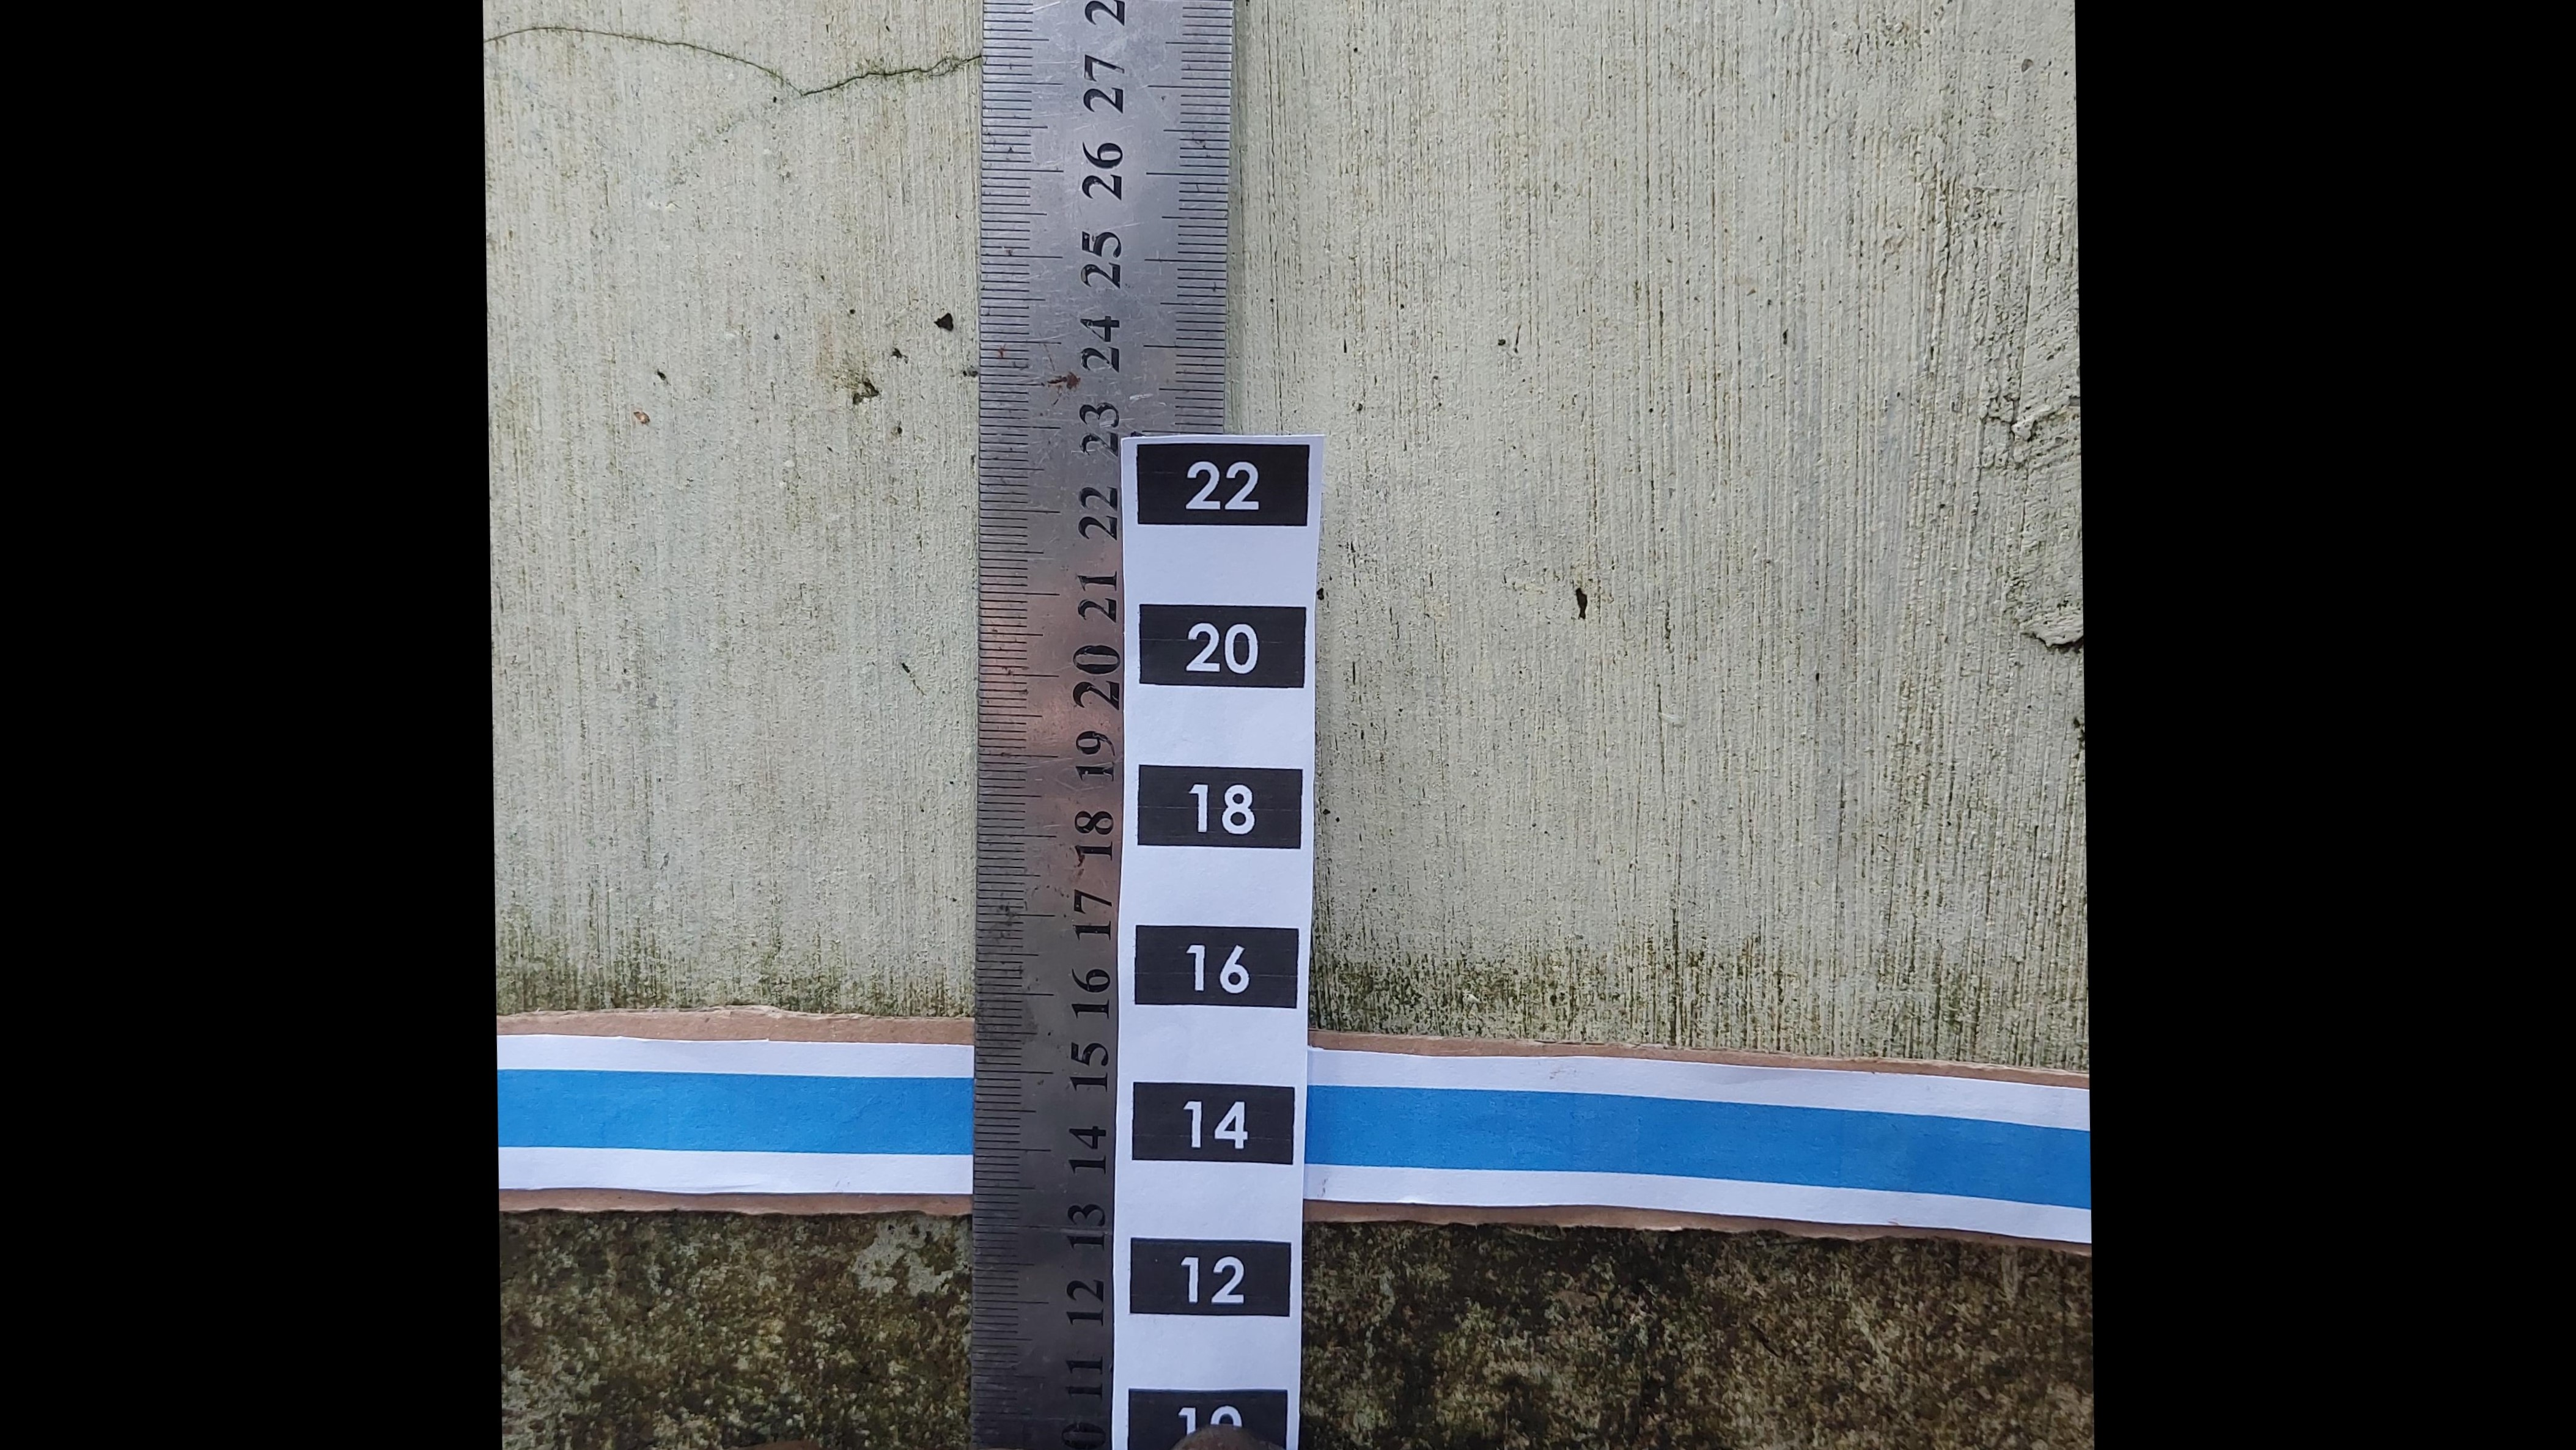kotak_2x1: (1138, 446, 1309, 530), (1139, 605, 1304, 690), (1136, 925, 1299, 1006), (1134, 766, 1300, 845), (1131, 1238, 1288, 1317), (1134, 1086, 1295, 1164)
